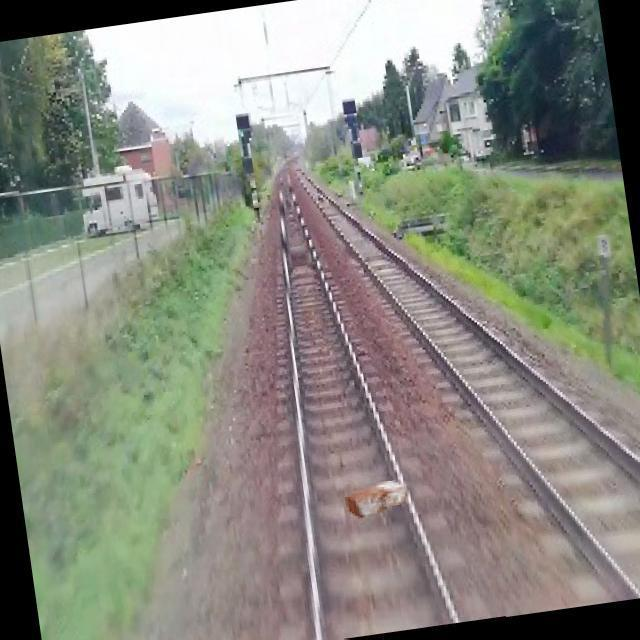rail: (267, 173, 507, 640)
